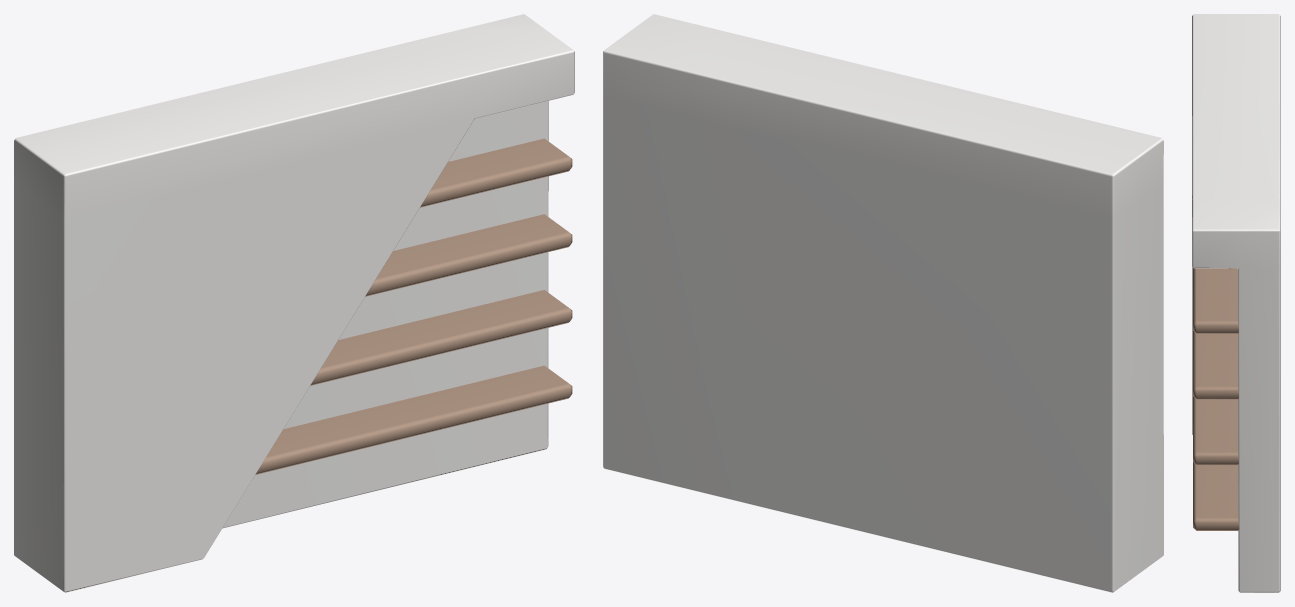
Rendered from Wall_14.glb.
3 views of the same model, side by side, from view 1: azimuth 30°, elevation 25°; view 2: azimuth 150°, elevation 25°; view 3: azimuth 270°, elevation 25° (orthographic). The views are drawn at different scales.
Visible parts, largest first — view 1: Wall_14; view 2: Wall_14; view 3: Wall_14.
Boxes of the visible parts, x1,y1,x2,y2 form: Wall_14: [14, 14, 574, 592]; Wall_14: [603, 14, 1163, 592]; Wall_14: [1192, 14, 1280, 592].
Bounding box in the file's own units: 4.6 × 3.6 × 0.796.
Materials: 1 (1 with a texture image).
